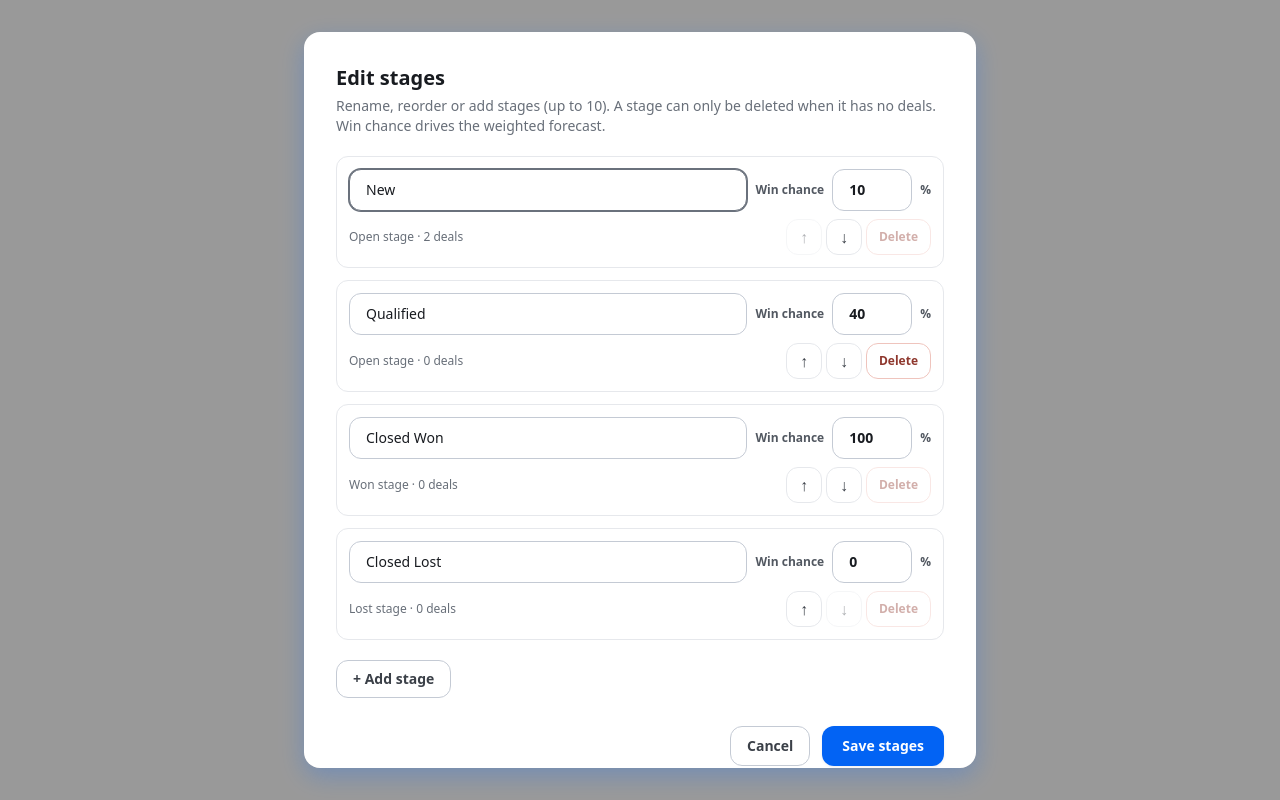
it: StageEditor › shows the API message when it refuses (nothing is saved)
Step 1. Click the button "Save stages" → (883,746), box [822,726,944,766]
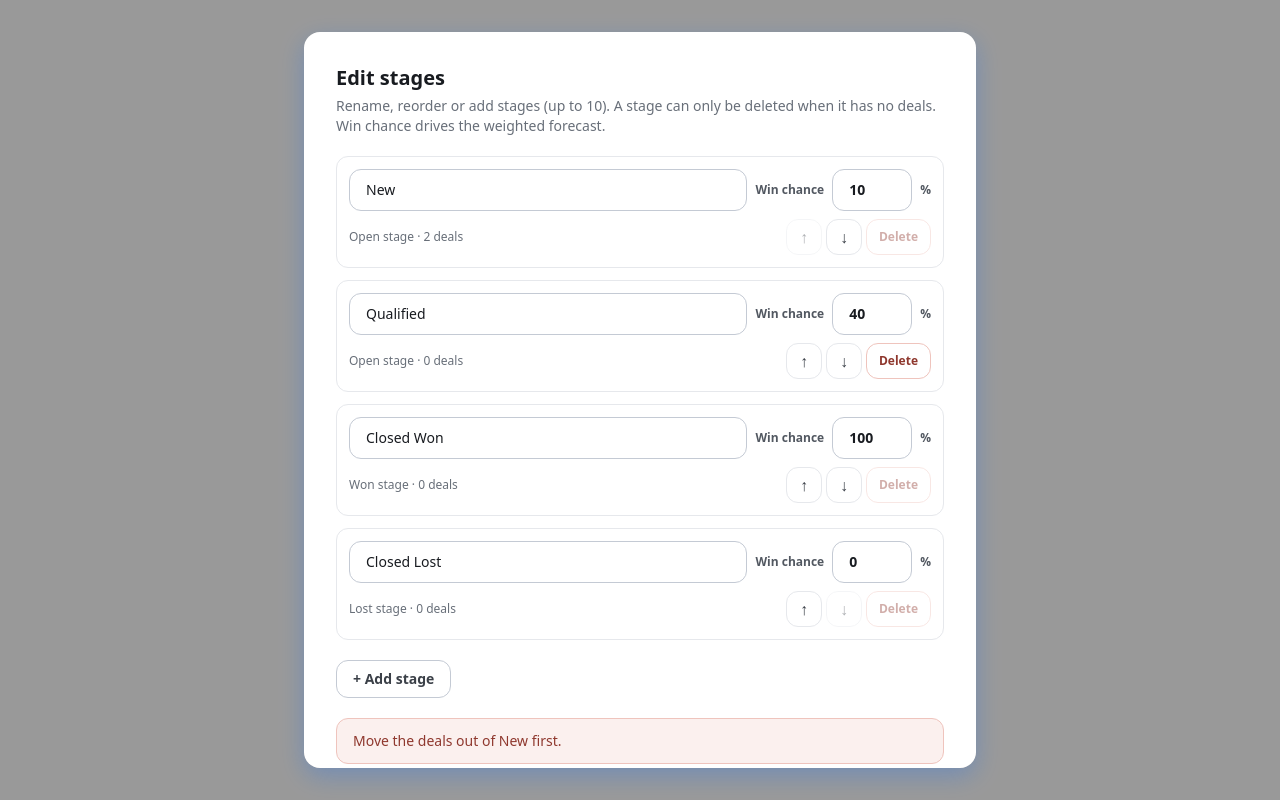
expect the message reads "Move the deals out of New first.": met, box [353,731,562,750]
